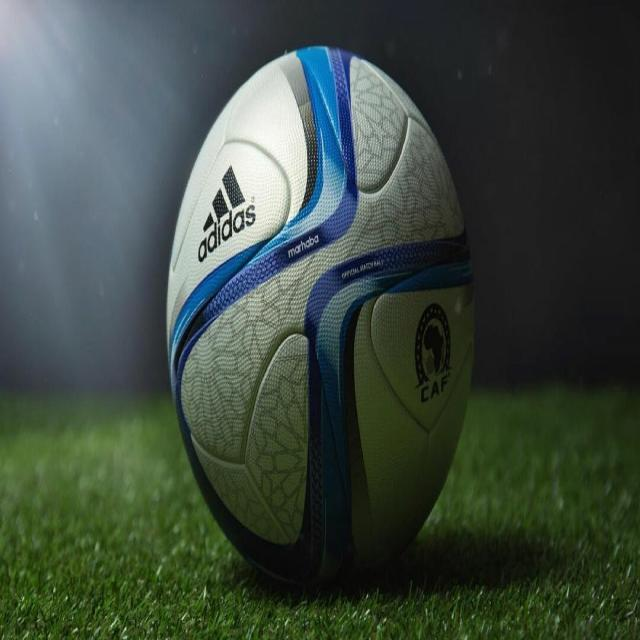soccer ball: (169, 46, 475, 598)
